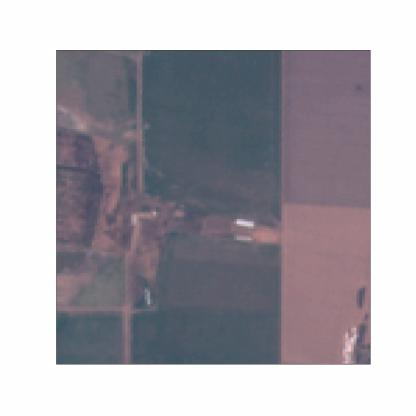silobolsa: (234, 217, 256, 228), (144, 286, 152, 308)
